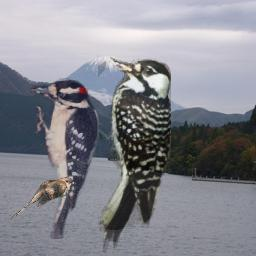Cuckoo: (10, 177, 77, 220)
Woodpecker: (98, 56, 171, 253), (30, 76, 102, 239)
